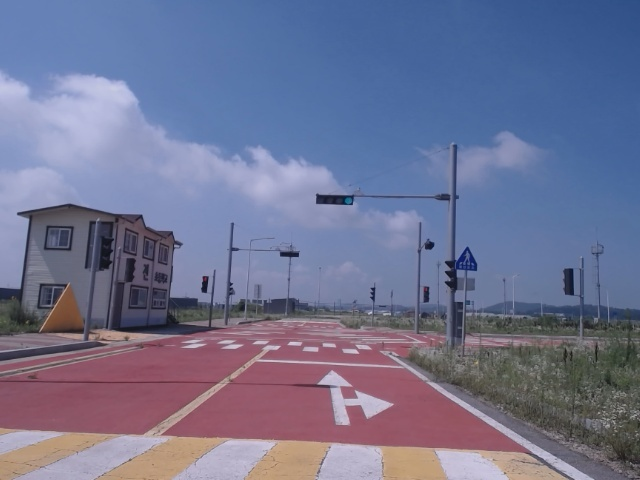straight_green_4: (315, 196, 354, 206)
